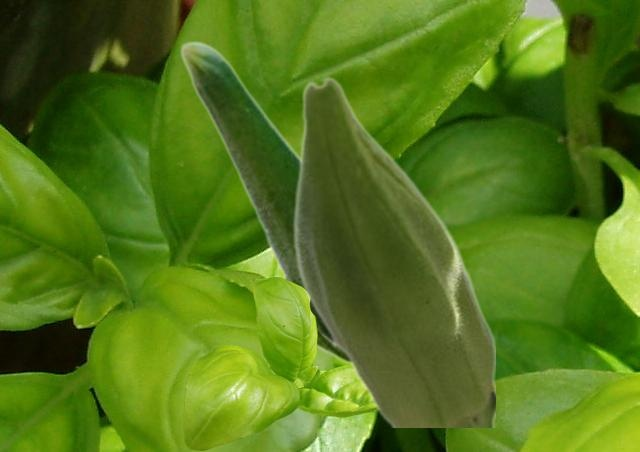okra: (292, 76, 494, 426), (179, 40, 348, 363)
